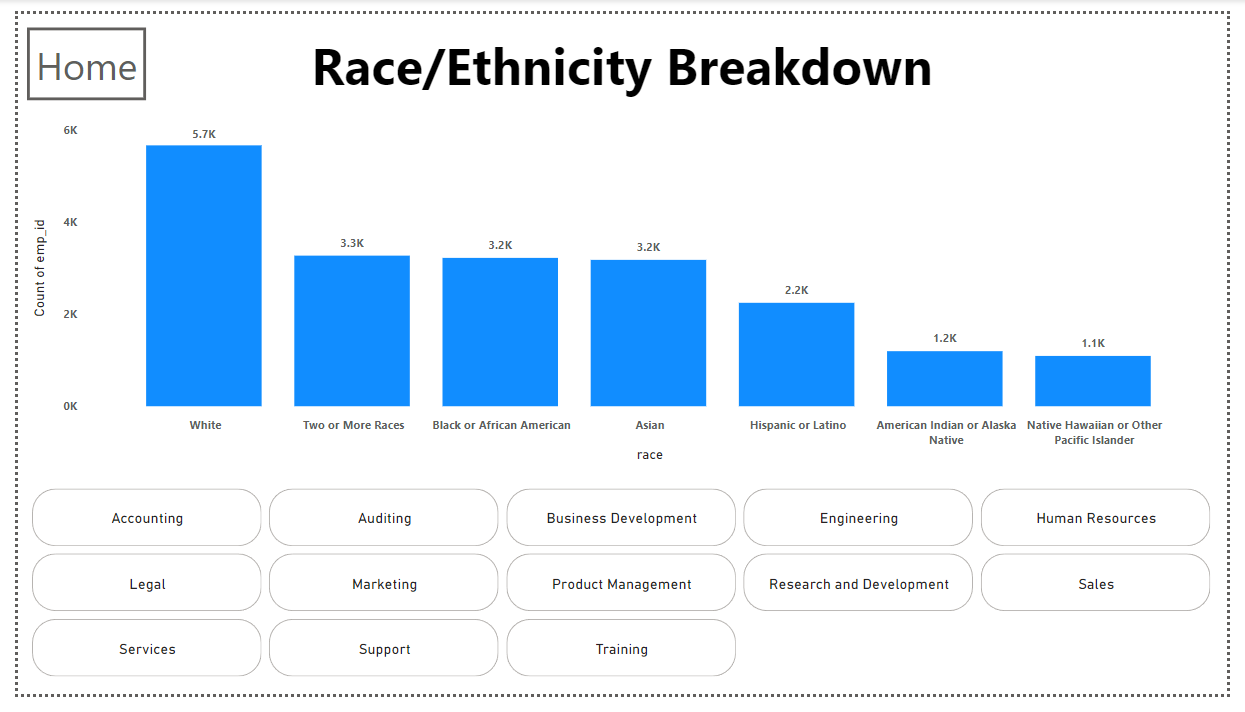

This screenshot's page, from the dashboard's own definition file:
{"tool":"powerbi","page":{"name":"Race/Ethnicity Breakdown","canvas":[1280,720],"ordinal":2},"visuals":[{"type":"advancedSlicerVisual","fields":{"Values":["hr.department"]},"box":[9.7,497.1,1259.8,210.5],"z":0},{"type":"textbox","box":[9.7,13,1259.8,81],"z":1000},{"type":"columnChart","fields":{"Category":["hr.race"],"Y":["CountNonNull(hr.emp_id)"]},"box":[9.7,108.5,1259.8,370.8],"z":1001},{"type":"actionButton","box":[9,14,126,77],"z":1002}]}

Visuals, with their boxes in screenshot pixels (x1, y1, x2, y2), scaled from the page's 1280x720 canvas onto the 1245x712 screenshot:
advancedSlicerVisual - hr.department: rect(9, 492, 1235, 700)
textbox: rect(9, 13, 1235, 93)
columnChart - hr.race x CountNonNull(hr.emp_id): rect(9, 107, 1235, 474)
actionButton: rect(9, 14, 131, 90)
